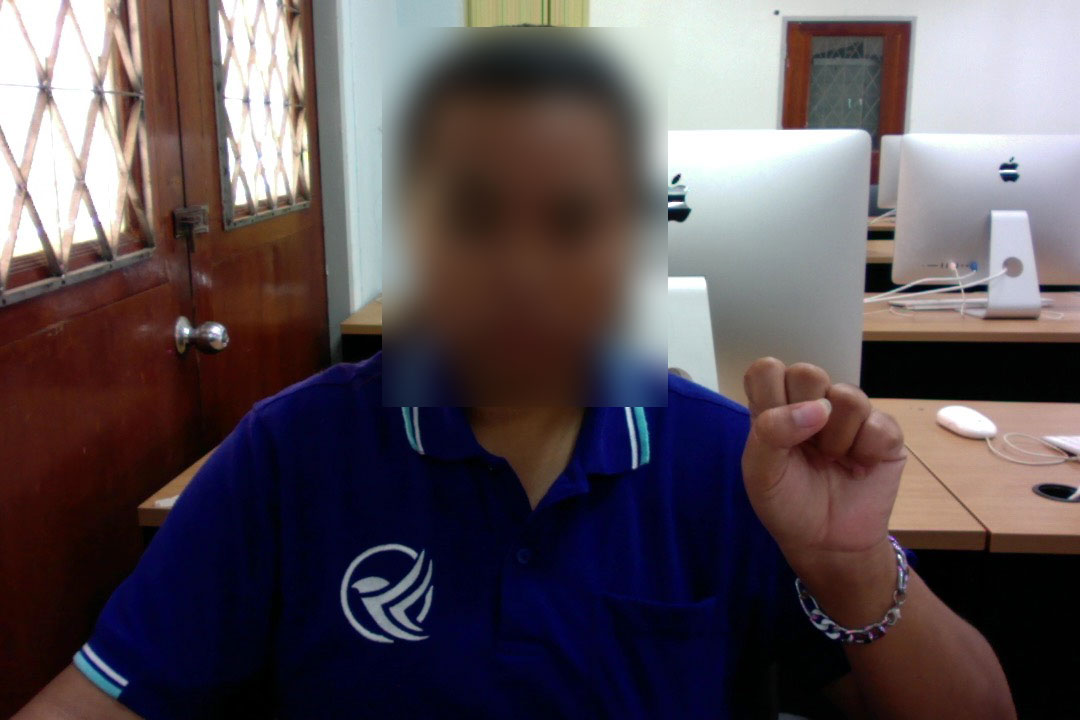sor: (733, 349, 912, 574)
